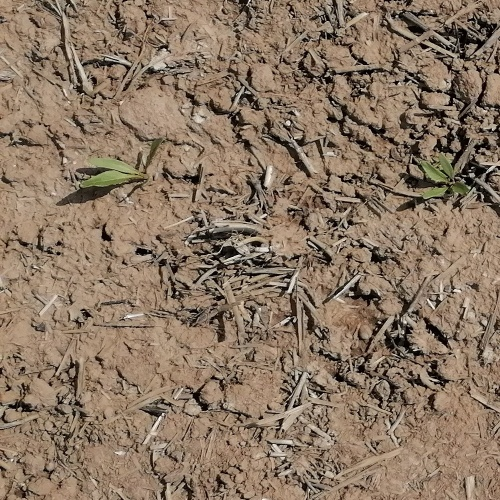beet: (79, 136, 166, 192), (417, 151, 470, 197)
